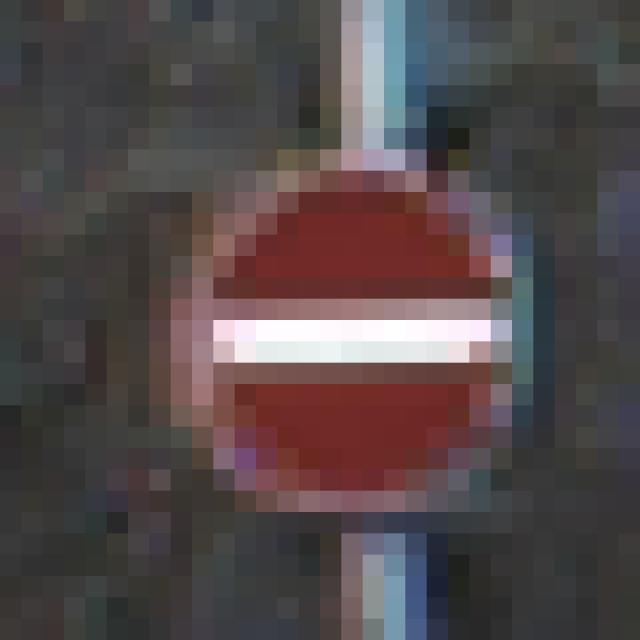No Entry: (129, 129, 534, 534)
